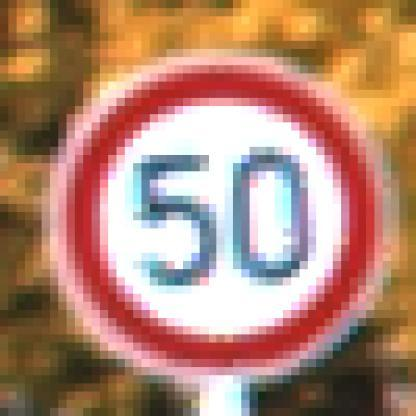Speed Limit -50-: (84, 74, 347, 391)
